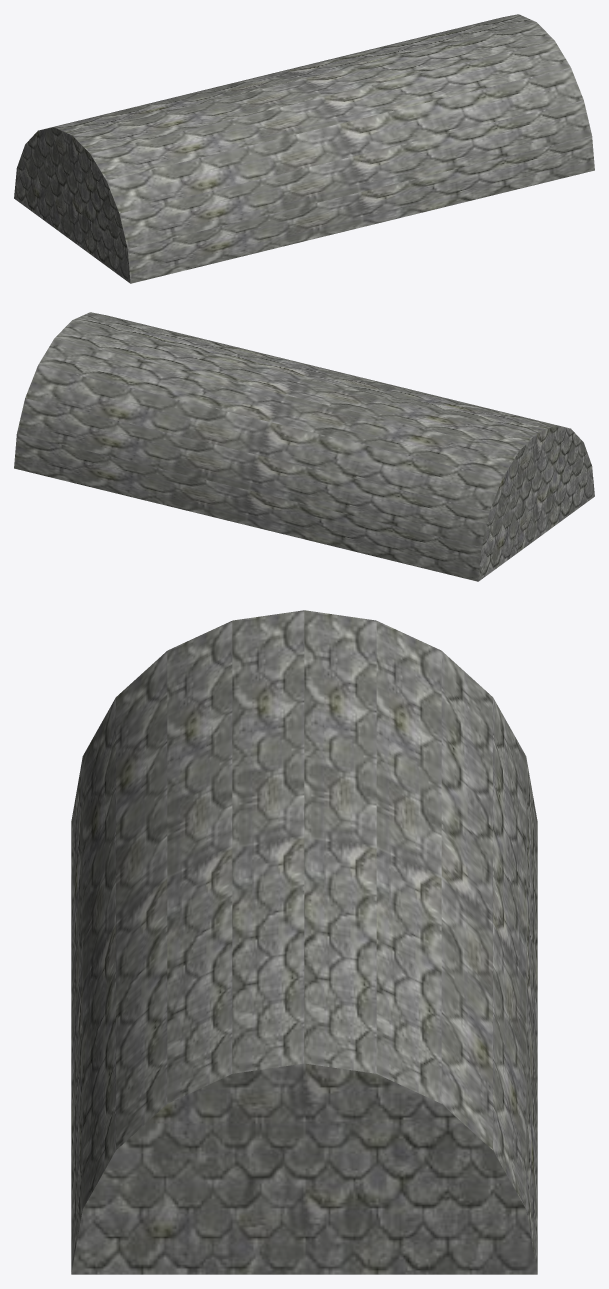
The model's file is coberto.fbx.
The picture shows the model from 3 angles, top to bottom: view 1: azimuth 30°, elevation 25°; view 2: azimuth 150°, elevation 25°; view 3: azimuth 270°, elevation 25°; orthographic projection. The views are drawn at different scales.
Parts seen in each view (by area): view 1: pCylinder36; view 2: pCylinder36; view 3: pCylinder36.
Boxes of the visible parts, x1,y1,x2,y2 form: pCylinder36: [14, 14, 594, 283]; pCylinder36: [14, 312, 594, 581]; pCylinder36: [71, 610, 537, 1274].
Bounding box in the file's own units: 20.65 × 4.49 × 8.98.
